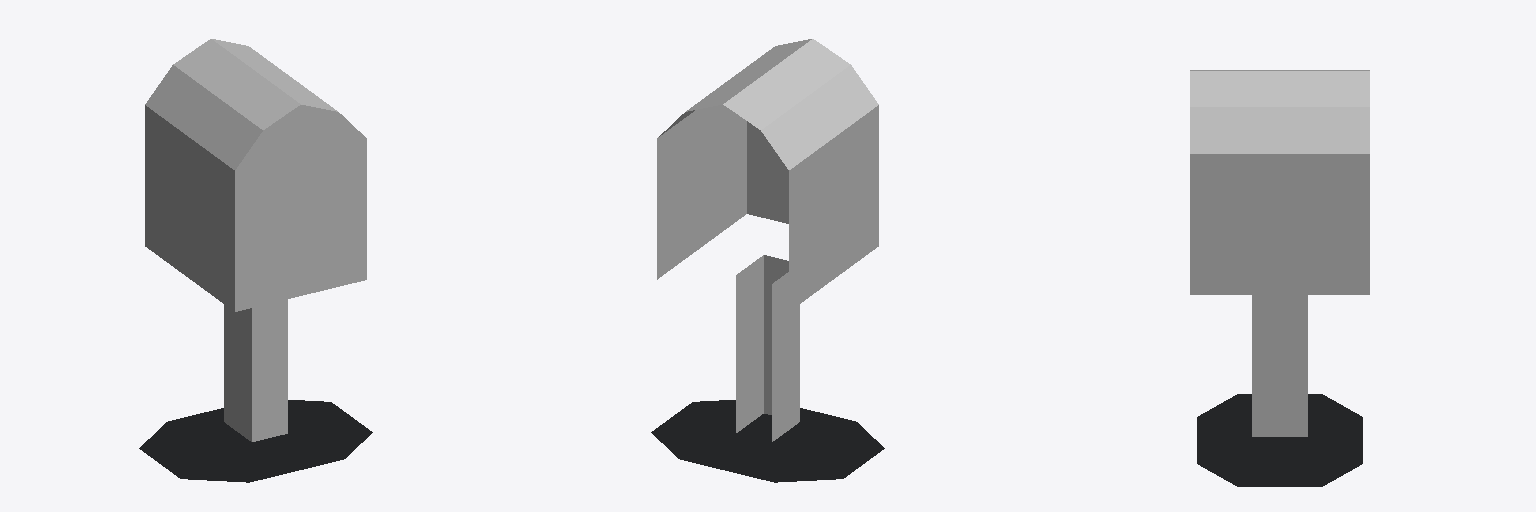
3 renders of one model, left to right at view 1: azimuth 30°, elevation 25°; view 2: azimuth 150°, elevation 25°; view 3: azimuth 270°, elevation 25°, orthographic.
Visible parts, largest first — view 1: polygon2, polygon1, polygon0; view 2: polygon2, polygon1, polygon0; view 3: polygon2, polygon1, polygon0.
Part boxes in pixels (bbox=[...]): polygon2: bbox=[145, 39, 366, 311]; polygon1: bbox=[139, 400, 372, 482]; polygon0: bbox=[224, 299, 287, 441]; polygon2: bbox=[657, 39, 878, 311]; polygon1: bbox=[651, 400, 884, 482]; polygon0: bbox=[736, 255, 799, 441]; polygon2: bbox=[1190, 70, 1369, 294]; polygon1: bbox=[1197, 394, 1362, 486]; polygon0: bbox=[1252, 295, 1307, 436].
Size of the model in its own units: 16 by 29.38 by 13.
Materials: 3 (1 with a texture image).